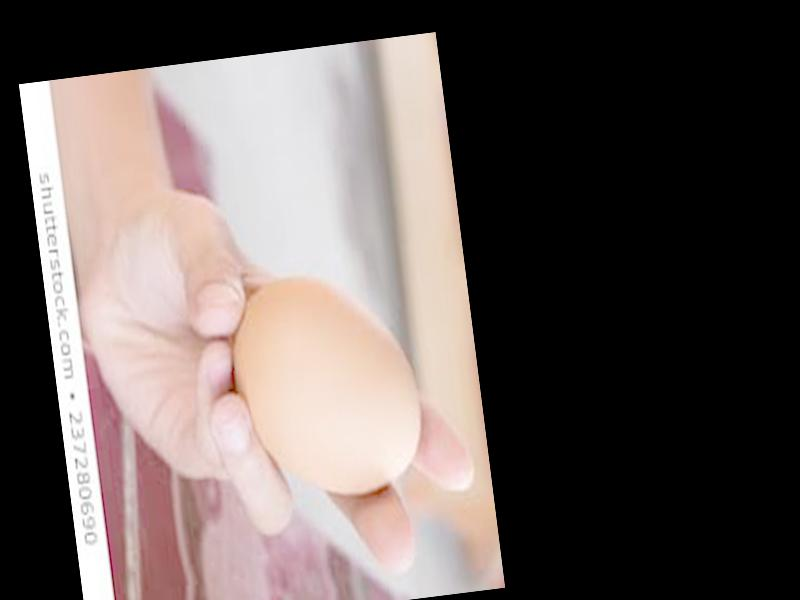Eggs: (225, 266, 428, 509)
